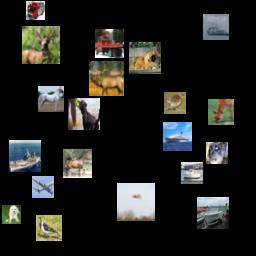airplane: (117, 183, 155, 221), (32, 176, 54, 198)
bird: (36, 215, 62, 241), (164, 92, 186, 114)
cat: (206, 142, 228, 164)
deer: (22, 26, 60, 64), (89, 61, 124, 96), (208, 99, 234, 125)
dog: (129, 42, 161, 74), (68, 98, 100, 130), (2, 205, 21, 224)
ship: (9, 140, 41, 172), (197, 197, 229, 229), (163, 122, 192, 151), (203, 14, 229, 40), (181, 162, 203, 184)
truck: (95, 29, 124, 58), (26, 1, 45, 20)
